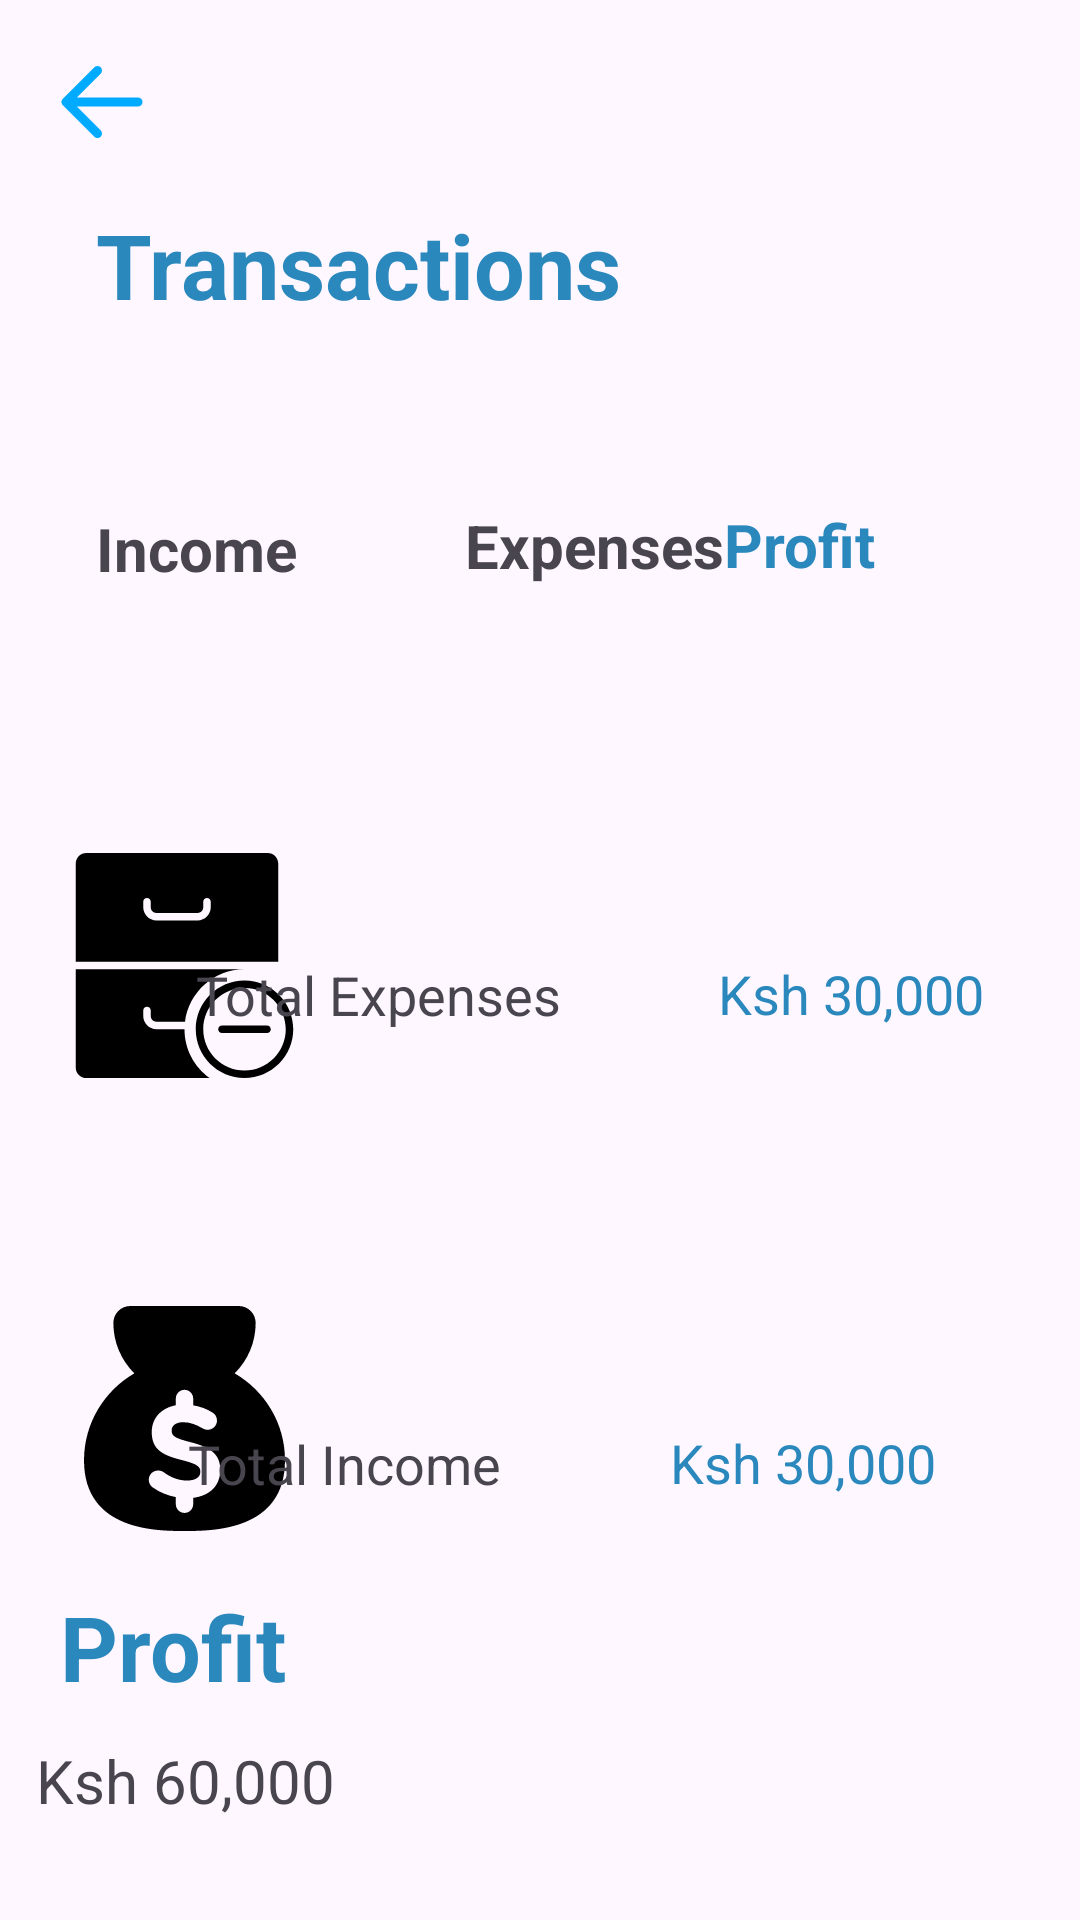

Locate icon controls on the screen. Image size 1080 x 1920, boxes as (x1, y1, x2, y2).
archive: (75, 853, 297, 1078)
arrow: (61, 66, 143, 138)
bag of money: (84, 1306, 293, 1531)
